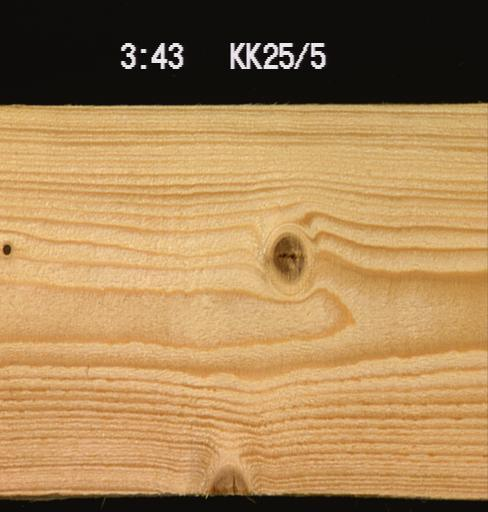dry_knot: (0, 240, 12, 256)
edge_knot: (198, 460, 253, 498)
sound_knot: (268, 228, 309, 282)
